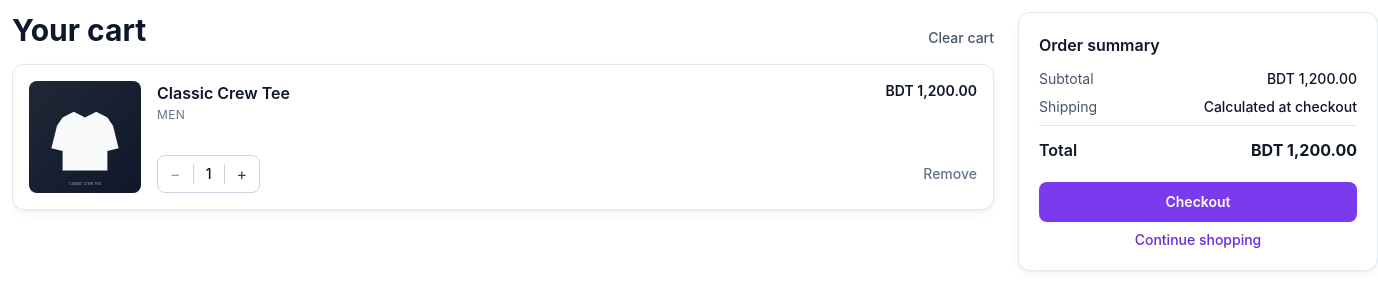
CartPage › increments quantity and removes a line
Click the button named "increase quantity" at (242, 174), box [225,156,259,192]
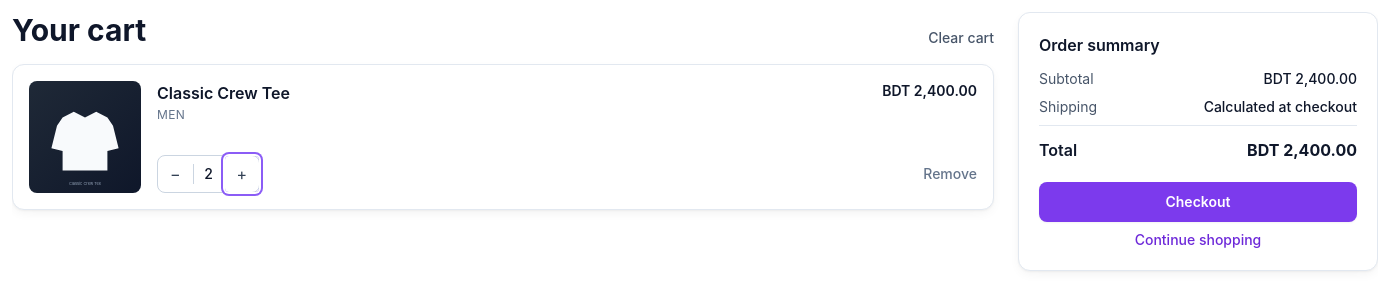
Check: the text "2" is shown, box [193,164,225,184]
Click the button "Remove" at (950, 174), box [923,164,977,184]
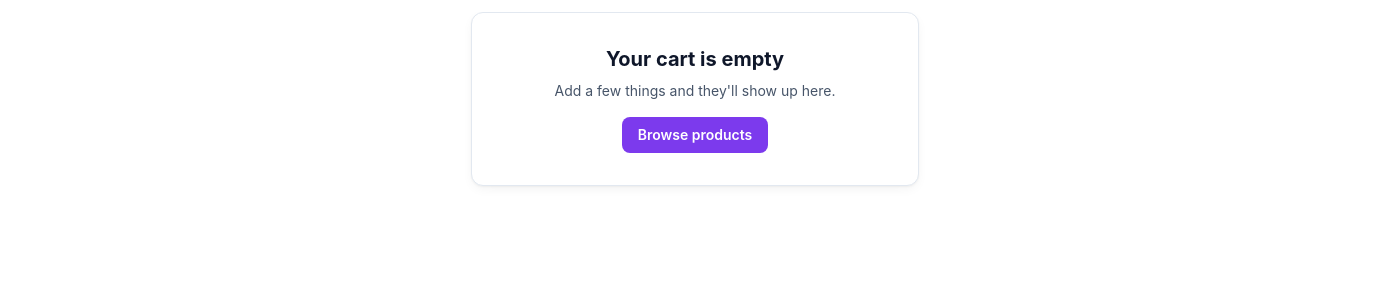
Check: the link "Classic Crew Tee" is gone
